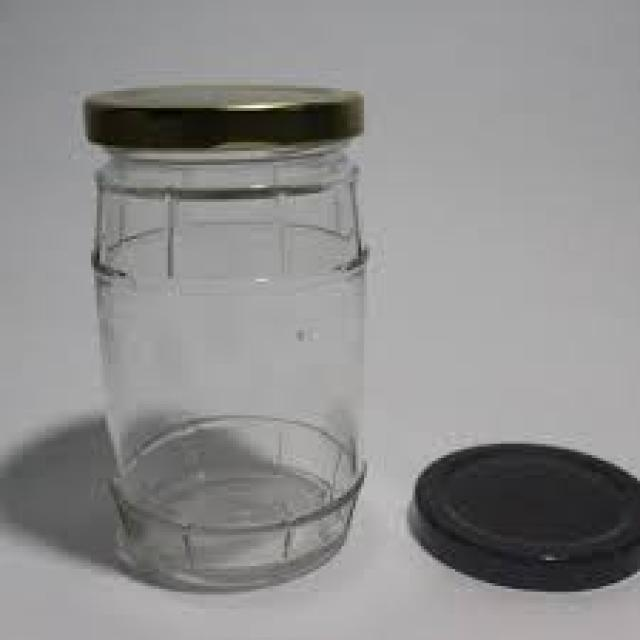ToplesKaca: (81, 79, 369, 594)
